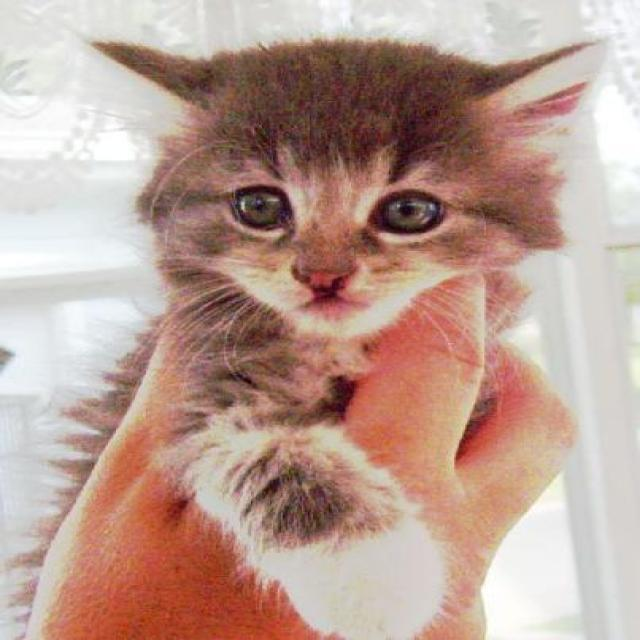cat: (54, 14, 599, 640)
